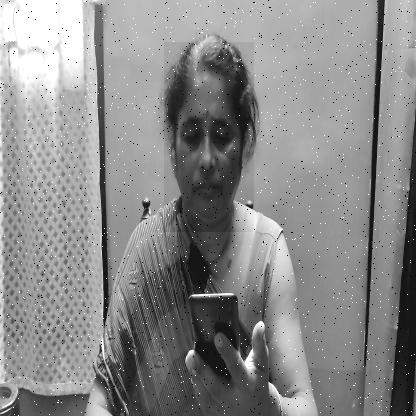Normal: (164, 42, 254, 232)
